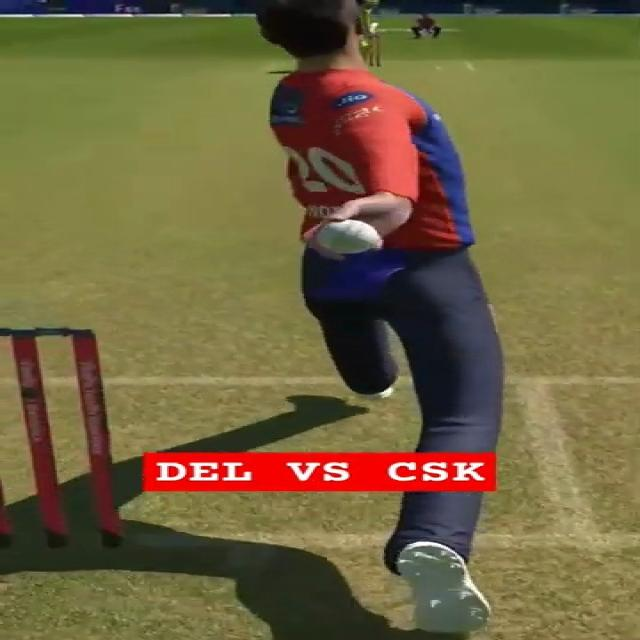ball: (315, 220, 380, 253)
